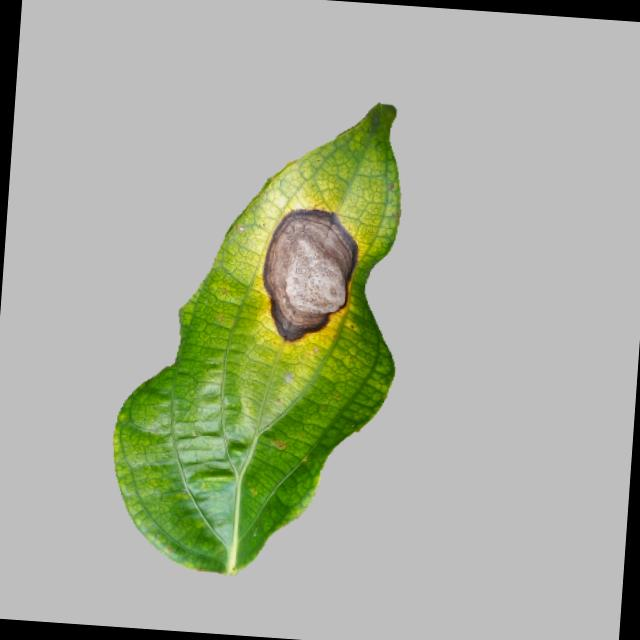leaf-blight: (91, 88, 418, 581)
